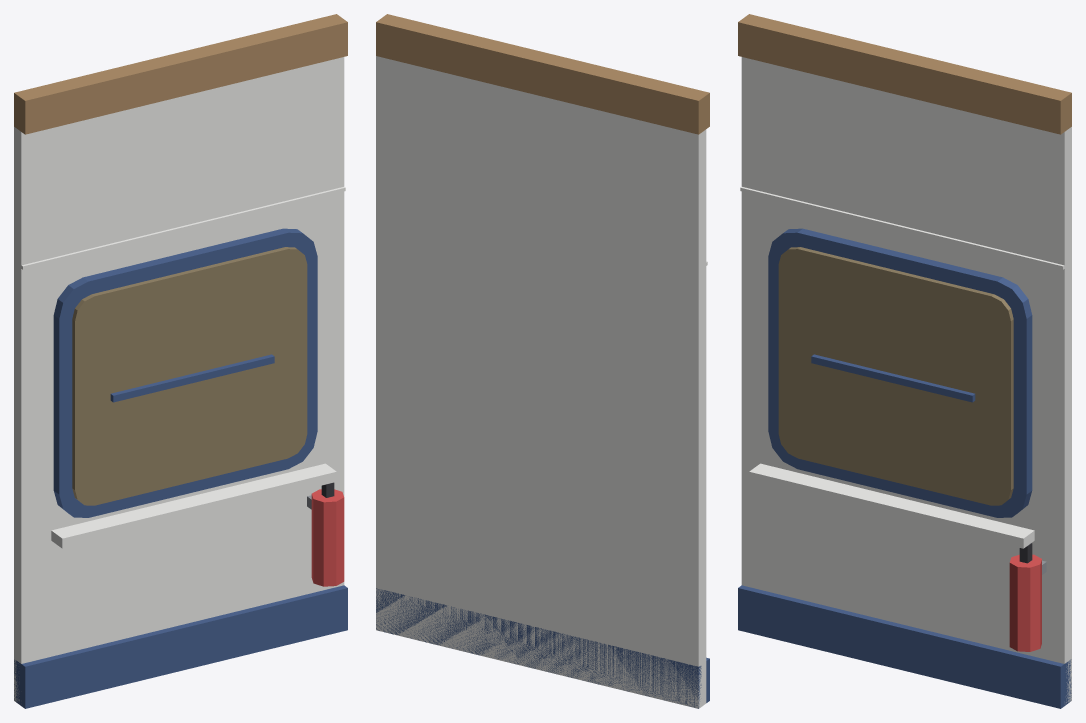
The model's file is CR_Fachada_A.fbx.
3 renders of one model, left to right at view 1: azimuth 30°, elevation 25°; view 2: azimuth 150°, elevation 25°; view 3: azimuth 330°, elevation 25°, orthographic.
Visible parts, largest first — view 1: CR_Fachada_A; view 2: CR_Fachada_A; view 3: CR_Fachada_A.
Part boxes in pixels (x1,y1,x2,y2): CR_Fachada_A: (14,14,347,708); CR_Fachada_A: (376,14,709,708); CR_Fachada_A: (738,14,1071,708).
Bounding box in the file's own units: 2 × 3.6 × 0.29.
